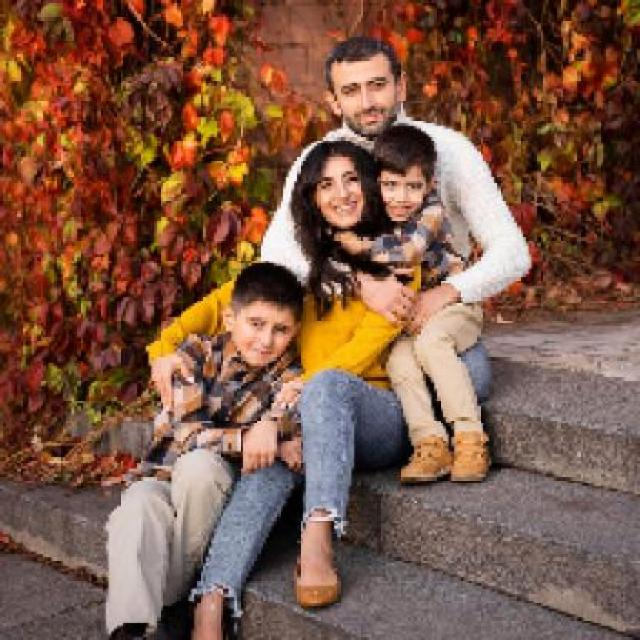child: (100, 262, 303, 638), (337, 124, 492, 482)
